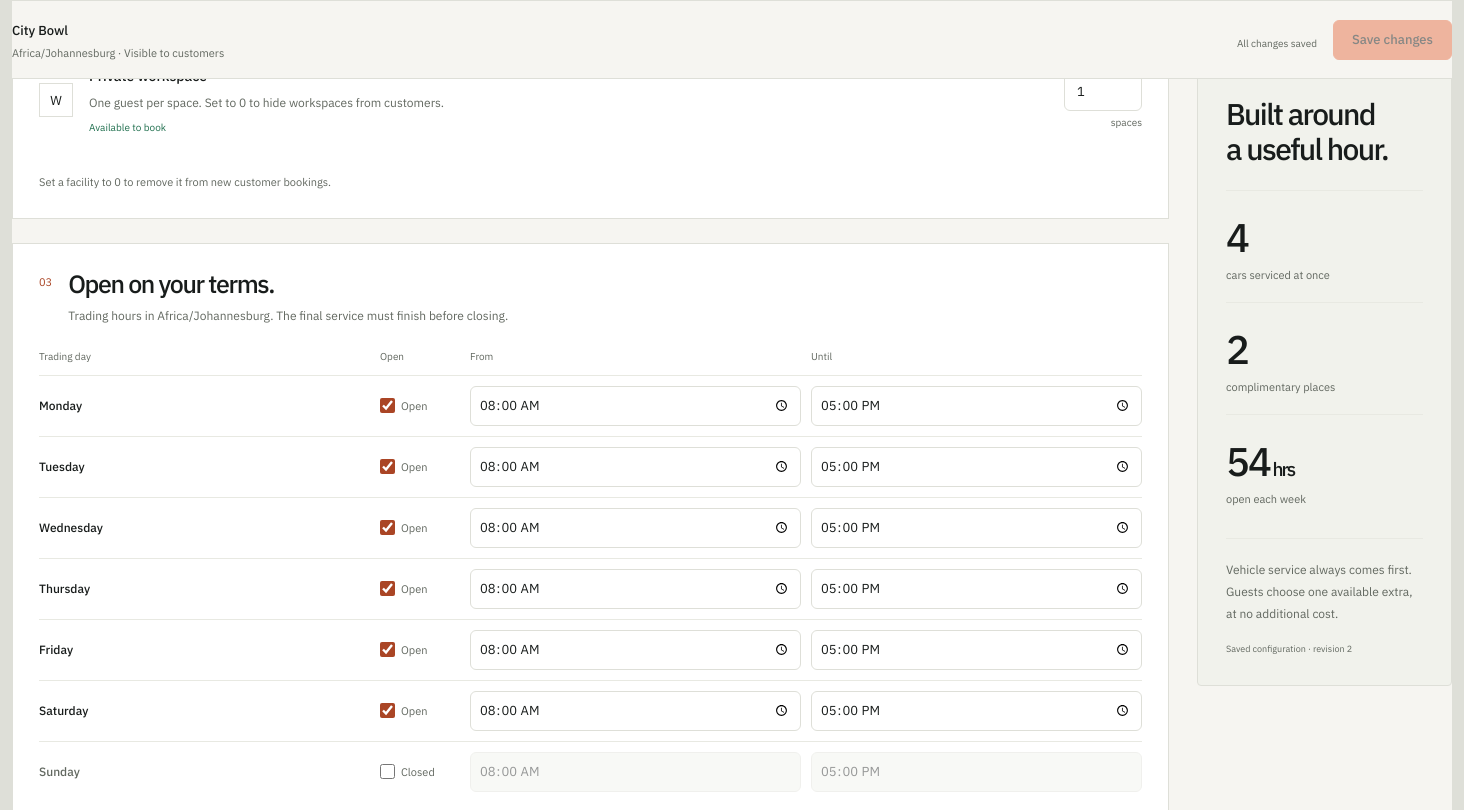
requires at least an hour for each open day
(page scrolled)
Step 1. Replace the text in the time field named "Monday closing time" with "08:30" → (976, 406), box [811,386,1142,426]
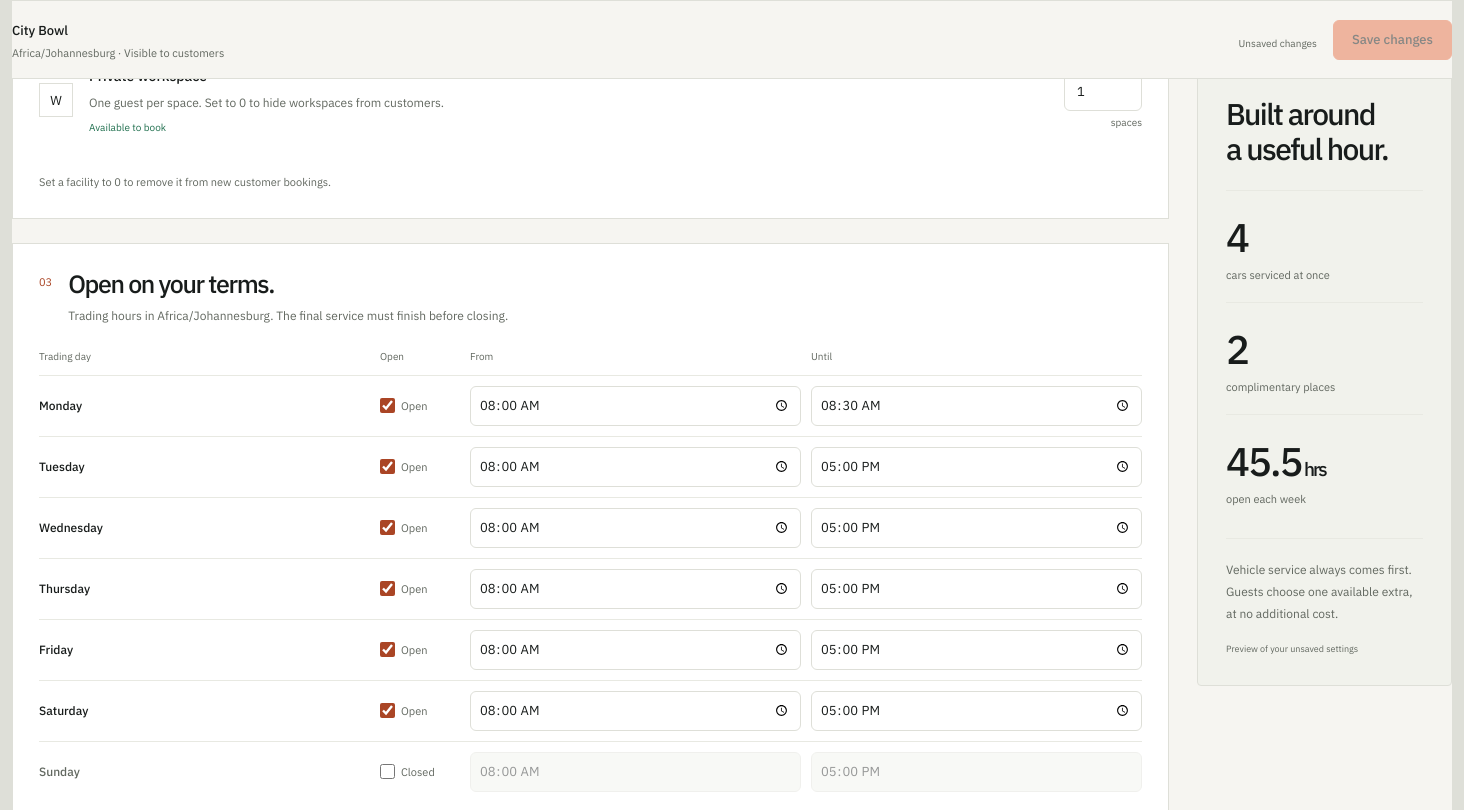
Expected: the button "Save changes" is disabled, [1333,20,1452,60]
Step 2. Replace the text in the time field named "Monday closing time" with "09:00" → (976, 406), box [811,386,1142,426]
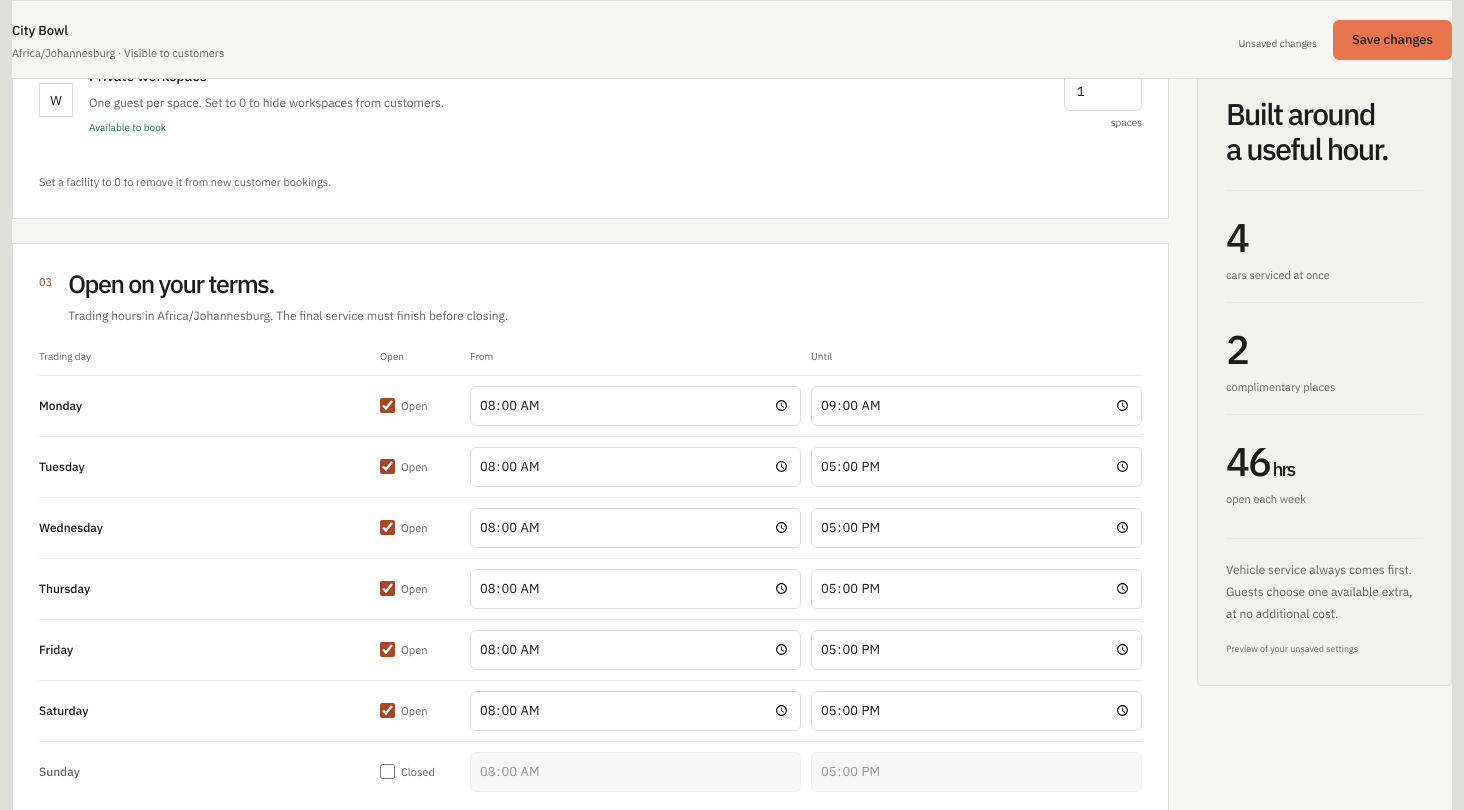
Expected: the button "Save changes" is enabled, [1333,20,1452,60]
